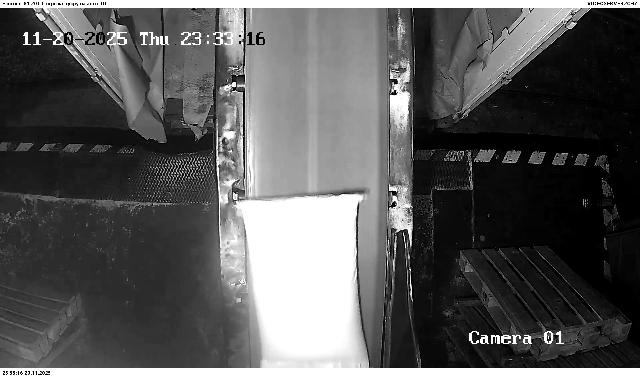bag: (237, 193, 369, 368)
